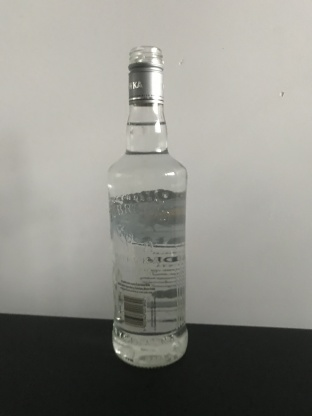nakretka: (126, 43, 165, 107)
